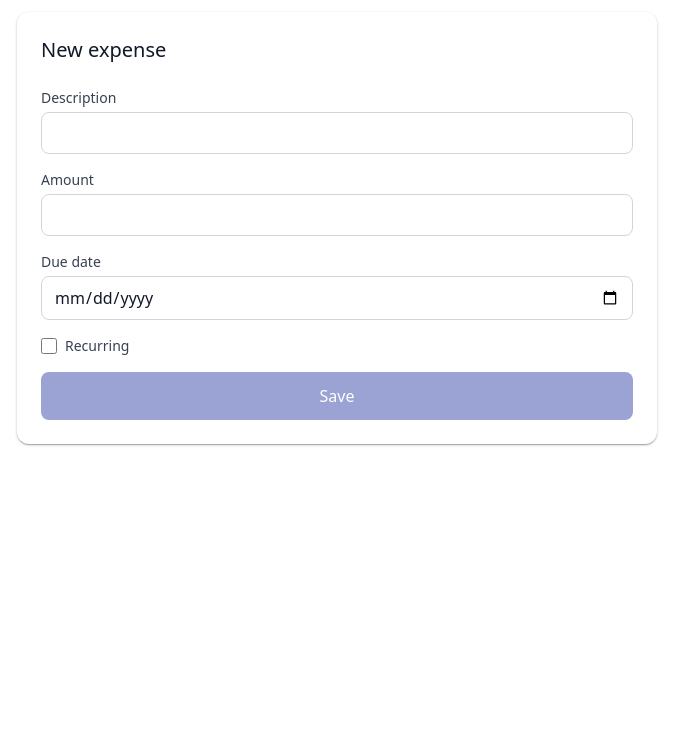
Scenario: ExpenseForm › requires a frequency once recurring is toggled on
Type "Subscription" into the field labelled "Description". click: (337, 133)
box: [41,112,633,154]
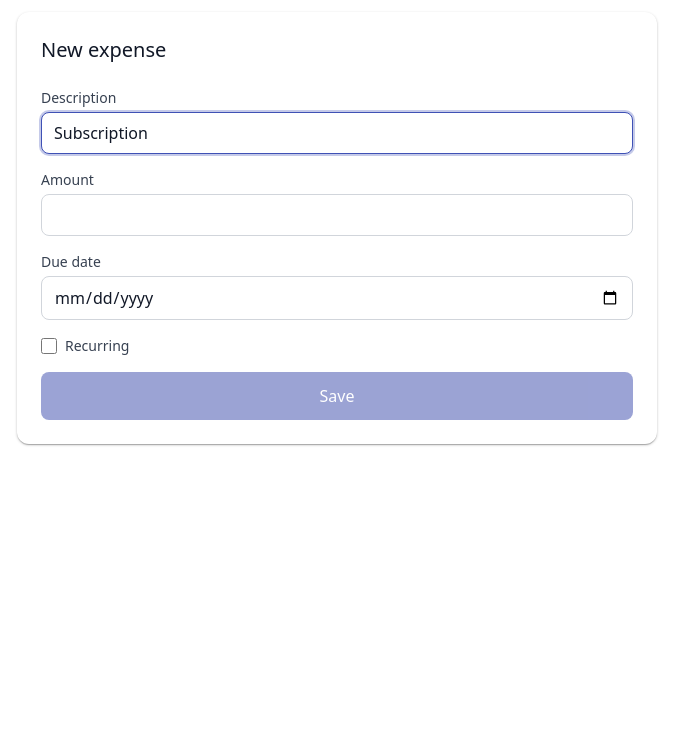
Type "10" into the field labelled "Amount". click: (337, 215)
box: [41,194,633,236]
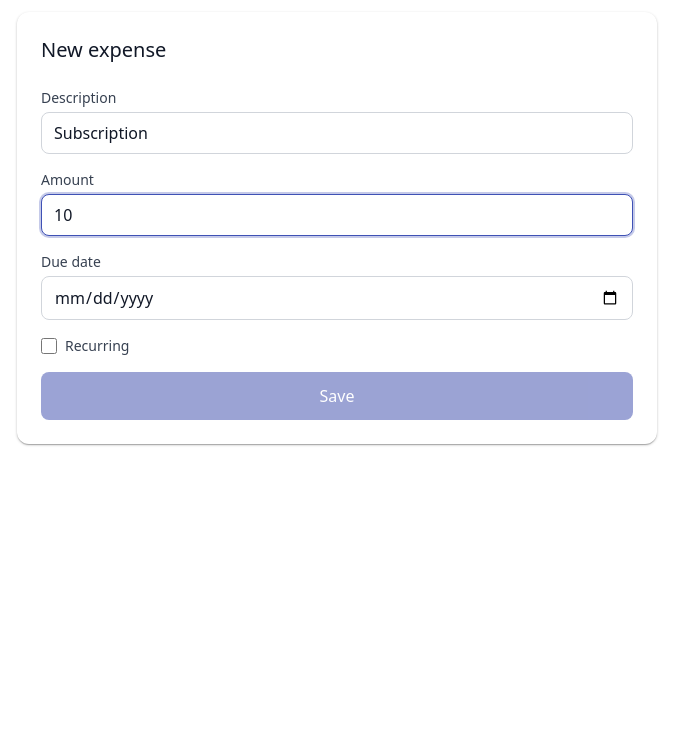
Type "2026-01-01" into the date field labelled "Due date". click: (337, 298)
box: [41,276,633,320]
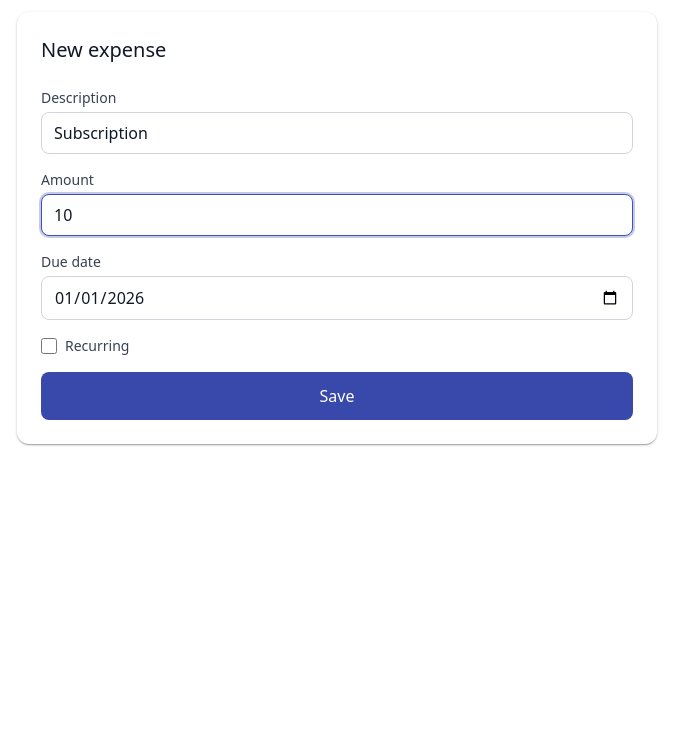
Click the checkbox labelled "Recurring". click: (49, 346)
box: [41,338,57,354]
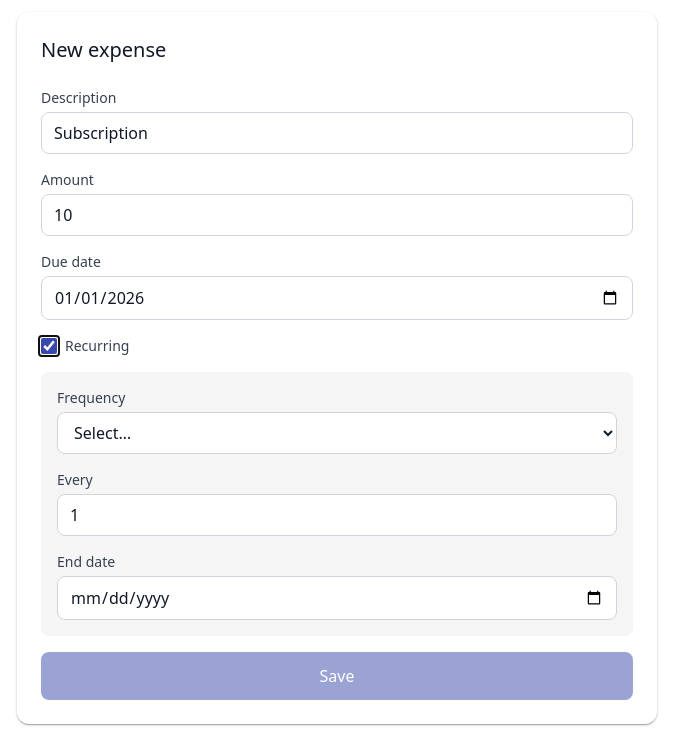
Check: the button "Save" is disabled, box [41,652,633,700]
Select "monthly" in the dropdown labelled "Frequency". click: (337, 433)
box: [57,412,617,454]
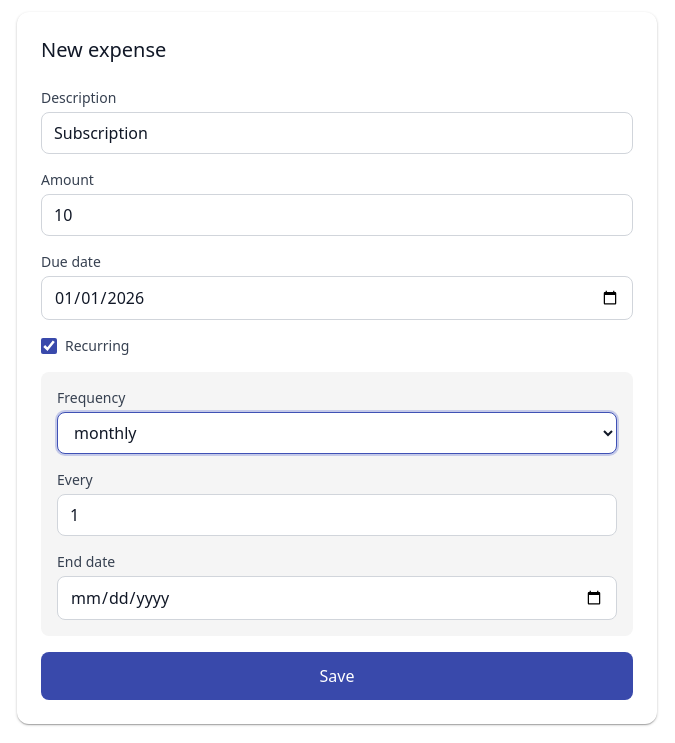
Check: the button "Save" is enabled, box [41,652,633,700]
